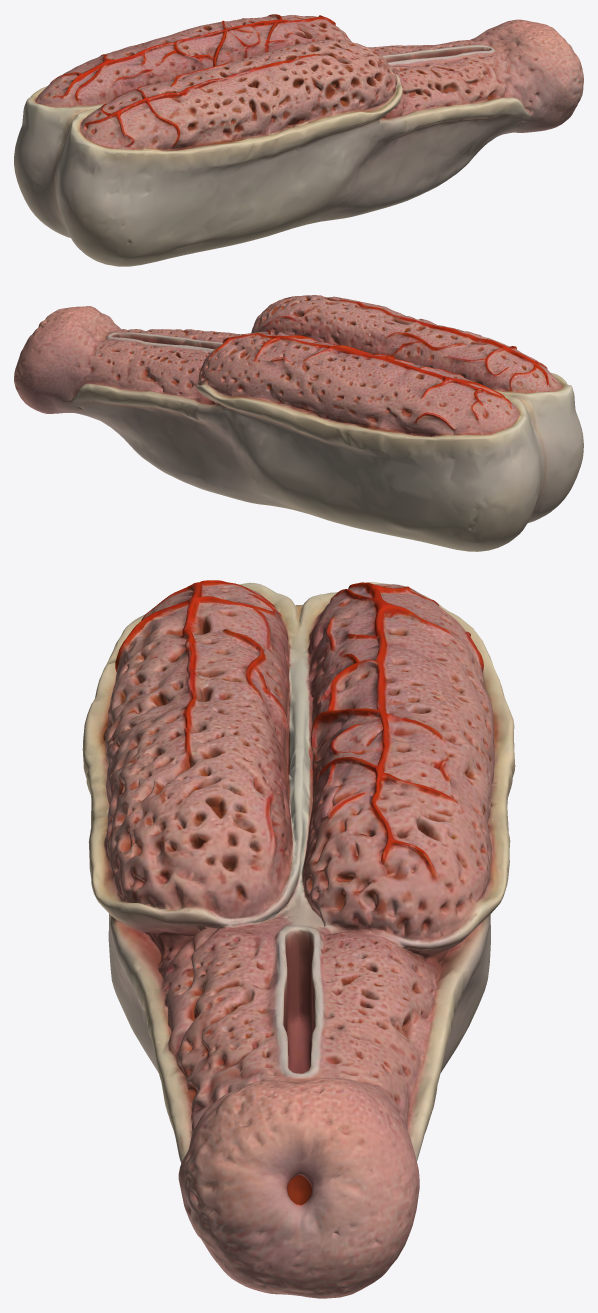
The model's file is penis.glb.
3 renders of one model, top to bottom at view 1: azimuth 30°, elevation 25°; view 2: azimuth 150°, elevation 25°; view 3: azimuth 270°, elevation 25°, orthographic. The views are drawn at different scales.
Visible parts, largest first — view 1: tripo_node_e232c1c8-759e-4c21-bf26-79566730d38f; view 2: tripo_node_e232c1c8-759e-4c21-bf26-79566730d38f; view 3: tripo_node_e232c1c8-759e-4c21-bf26-79566730d38f.
Part boxes in pixels (<box>): tripo_node_e232c1c8-759e-4c21-bf26-79566730d38f: <box>14,14,583,266</box>; tripo_node_e232c1c8-759e-4c21-bf26-79566730d38f: <box>14,295,583,551</box>; tripo_node_e232c1c8-759e-4c21-bf26-79566730d38f: <box>82,580,515,1298</box>.
Size of the model in its own units: 1 by 0.3361 by 0.3549.
1 material, 1 textured.
